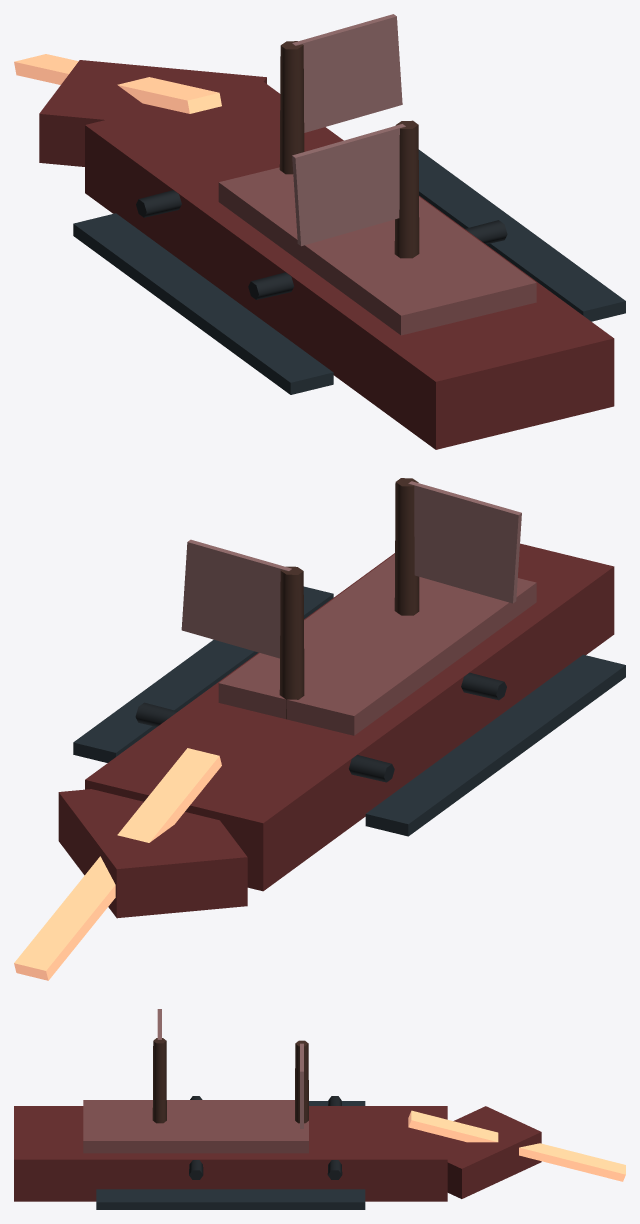
Rendered from ship_main_54_lod1.glb.
3 views of the same model, one above another, from view 1: azimuth 30°, elevation 25°; view 2: azimuth 150°, elevation 25°; view 3: azimuth 270°, elevation 25° (orthographic). The views are drawn at different scales.
Visible parts, largest first — view 1: Hull, Deck_0, PortOutrigger, Sail_1, Sail_0, Bow, StarboardOutrigger, ProwIdentity, Mast_0, Mast_1, Gun_P_2, Gun_P_0 (+1 smaller); view 2: Hull, Deck_0, Bow, PortOutrigger, Sail_1, ProwIdentity, Sail_0, StarboardOutrigger, Mast_0, Mast_1, Gun_P_2, Gun_P_0; view 3: Hull, Deck_0, StarboardOutrigger, Bow, ProwIdentity, Mast_1, Mast_0, Sail_0.
Part boxes in pixels (x1,y1,x2,y2): Hull: (85,81,614,449); Deck_0: (218,167,536,335); PortOutrigger: (73,213,333,394); Sail_1: (292,124,405,246); Sail_0: (292,14,402,132); Bow: (39,60,266,166); StarboardOutrigger: (418,149,625,321); ProwIdentity: (14,54,221,113); Mast_0: (279,41,304,174); Mast_1: (394,120,419,258); Gun_P_2: (248,272,294,299); Gun_P_0: (136,190,181,217); Hull: (85,543,614,891); Deck_0: (218,554,536,735); Bow: (58,789,247,918); PortOutrigger: (365,654,625,836); Sail_1: (408,481,521,603); ProwIdentity: (14,748,221,980); Sail_0: (181,539,291,658); StarboardOutrigger: (73,586,333,762); Mast_0: (279,566,304,719); Mast_1: (394,478,419,615); Gun_P_2: (461,672,506,700); Gun_P_0: (349,755,394,782); Hull: (14,1106,447,1201); Deck_0: (83,1100,308,1153); StarboardOutrigger: (96,1189,365,1209); Bow: (447,1106,541,1198); ProwIdentity: (408,1110,625,1181); Mast_1: (152,1038,166,1123); Mast_0: (295,1040,308,1123); Sail_0: (300,1043,303,1128).
Size of the model in its own units: 3.26 by 2.06 by 8.35.
